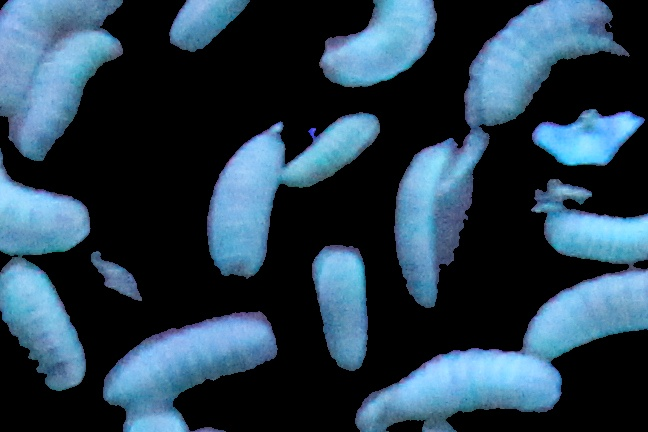larvae: (455, 1, 628, 126), (352, 349, 565, 432), (103, 313, 283, 409), (5, 26, 121, 160), (1, 1, 115, 115), (207, 116, 286, 277), (393, 139, 466, 309), (1, 257, 88, 391), (522, 270, 648, 361), (321, 1, 439, 94), (1, 159, 89, 255), (312, 244, 374, 373), (282, 113, 380, 192), (544, 202, 648, 266), (167, 1, 252, 54)
